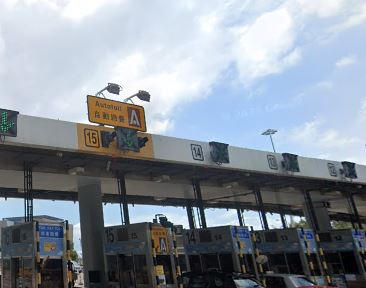Autotoll: (78, 93, 150, 130), (150, 226, 172, 255)
